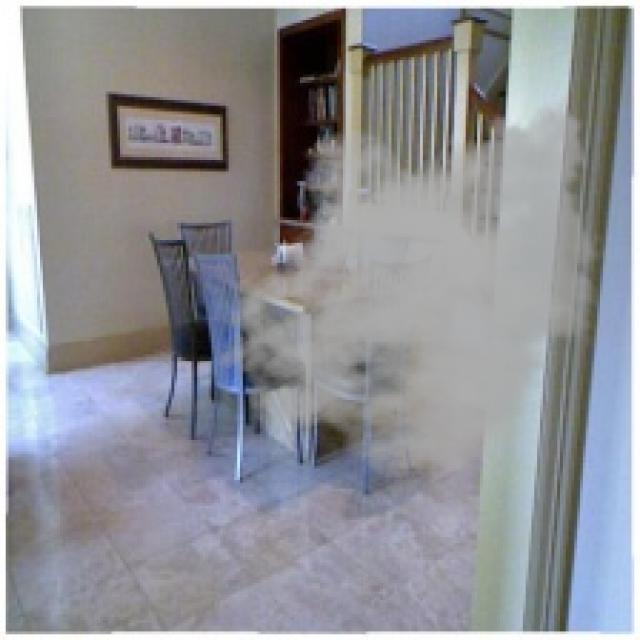Smoke: (214, 88, 609, 480)
